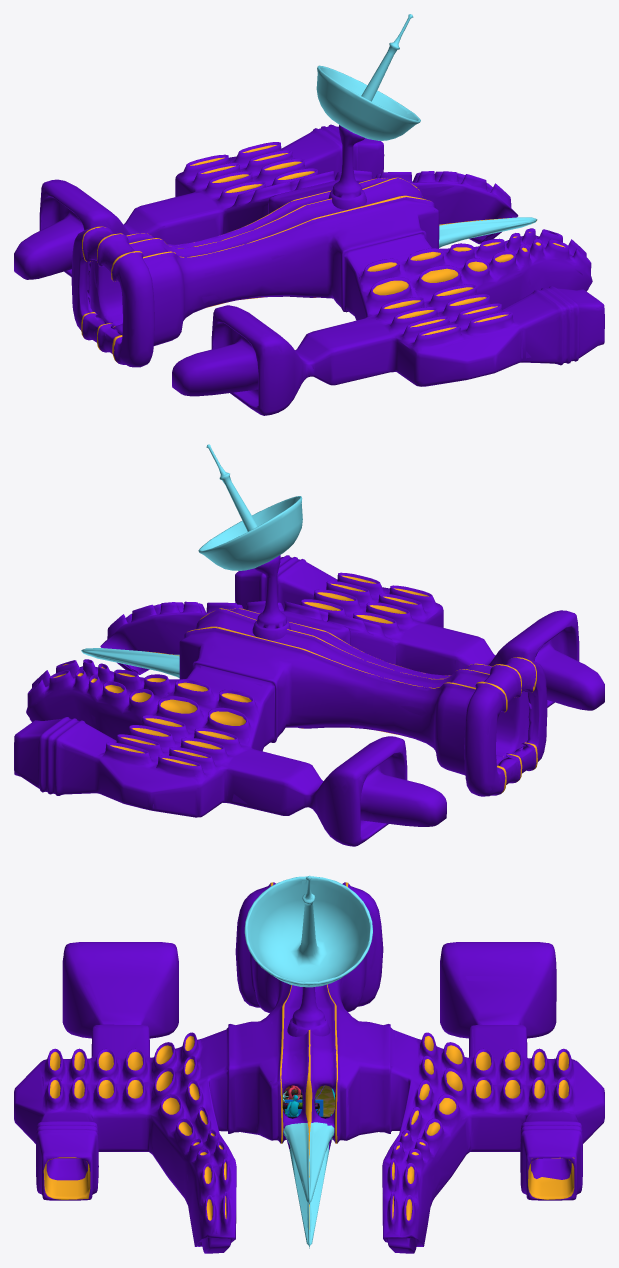
Rendered from halloradioraumLowRes.glb.
3 views of the same model, one above another, from view 1: azimuth 30°, elevation 25°; view 2: azimuth 150°, elevation 25°; view 3: azimuth 270°, elevation 25° (orthographic). The views are drawn at different scales.
Parts seen in each view (by area): view 1: Floor.064; view 2: Floor.064; view 3: Floor.064, Floor.
Boxes of the visible parts, x1,y1,x2,y2 form: Floor.064: [14, 14, 604, 415]; Floor.064: [14, 444, 604, 846]; Floor.064: [14, 875, 604, 1253]; Floor: [282, 1085, 335, 1118].
Size of the model in its own units: 59.58 by 36.92 by 61.03.
Materials: 32 (18 with a texture image).
